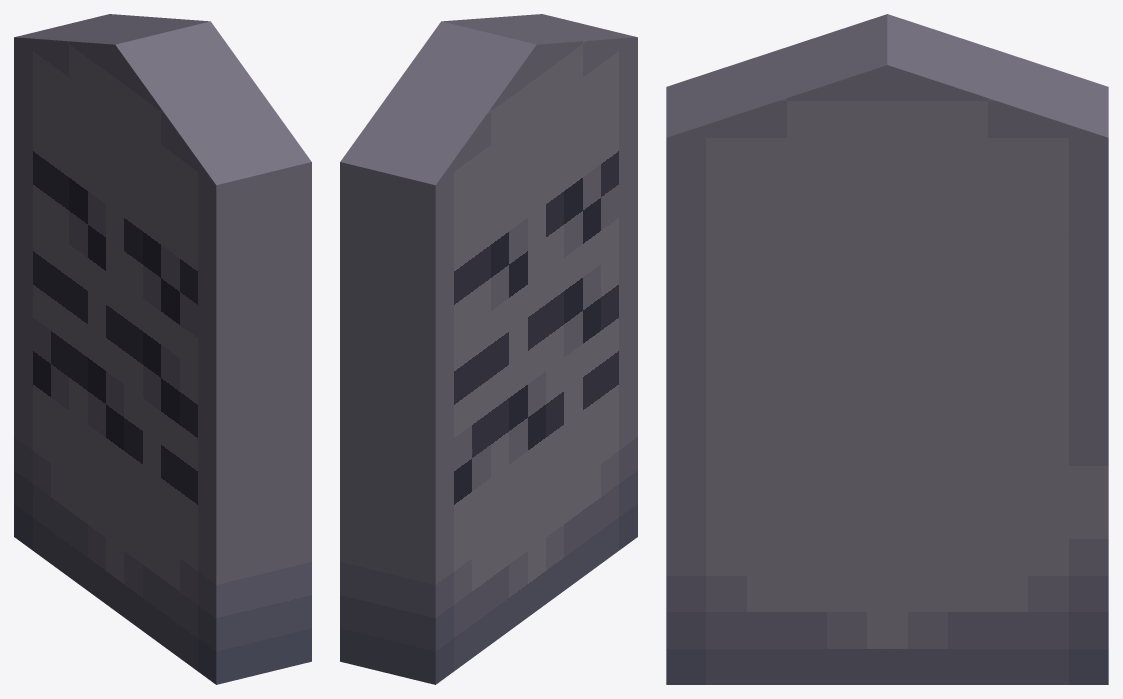
The model's file is grave_block.obj.
The picture shows the model from 3 angles, left to right: view 1: azimuth 30°, elevation 25°; view 2: azimuth 150°, elevation 25°; view 3: azimuth 270°, elevation 25°; orthographic projection. The views are drawn at different scales.
Parts seen in each view (by area): view 1: grave; view 2: grave; view 3: grave.
Boxes of the visible parts, x1,y1,x2,y2 form: grave: (14, 14, 311, 684); grave: (340, 14, 637, 684); grave: (666, 14, 1108, 684).
Bounding box in the file's own units: 0.1875 × 1.06 × 0.6875.
1 material, 1 textured.
